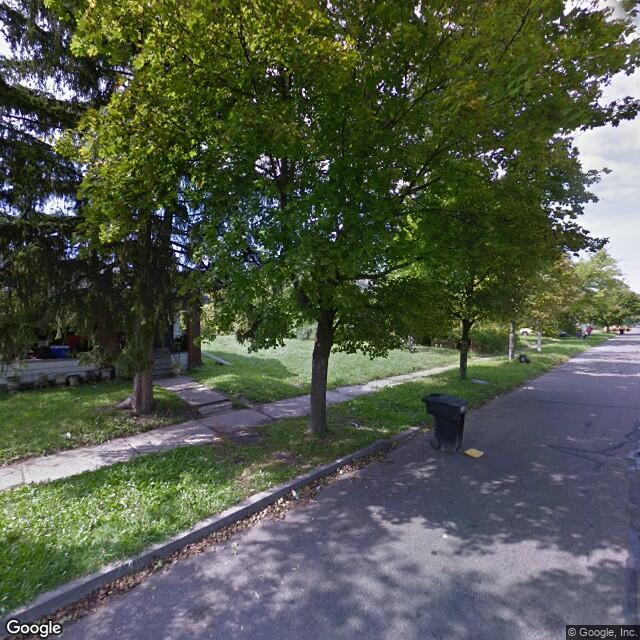litter: (465, 447, 485, 459), (290, 490, 300, 498), (64, 431, 73, 438), (339, 467, 344, 477)
